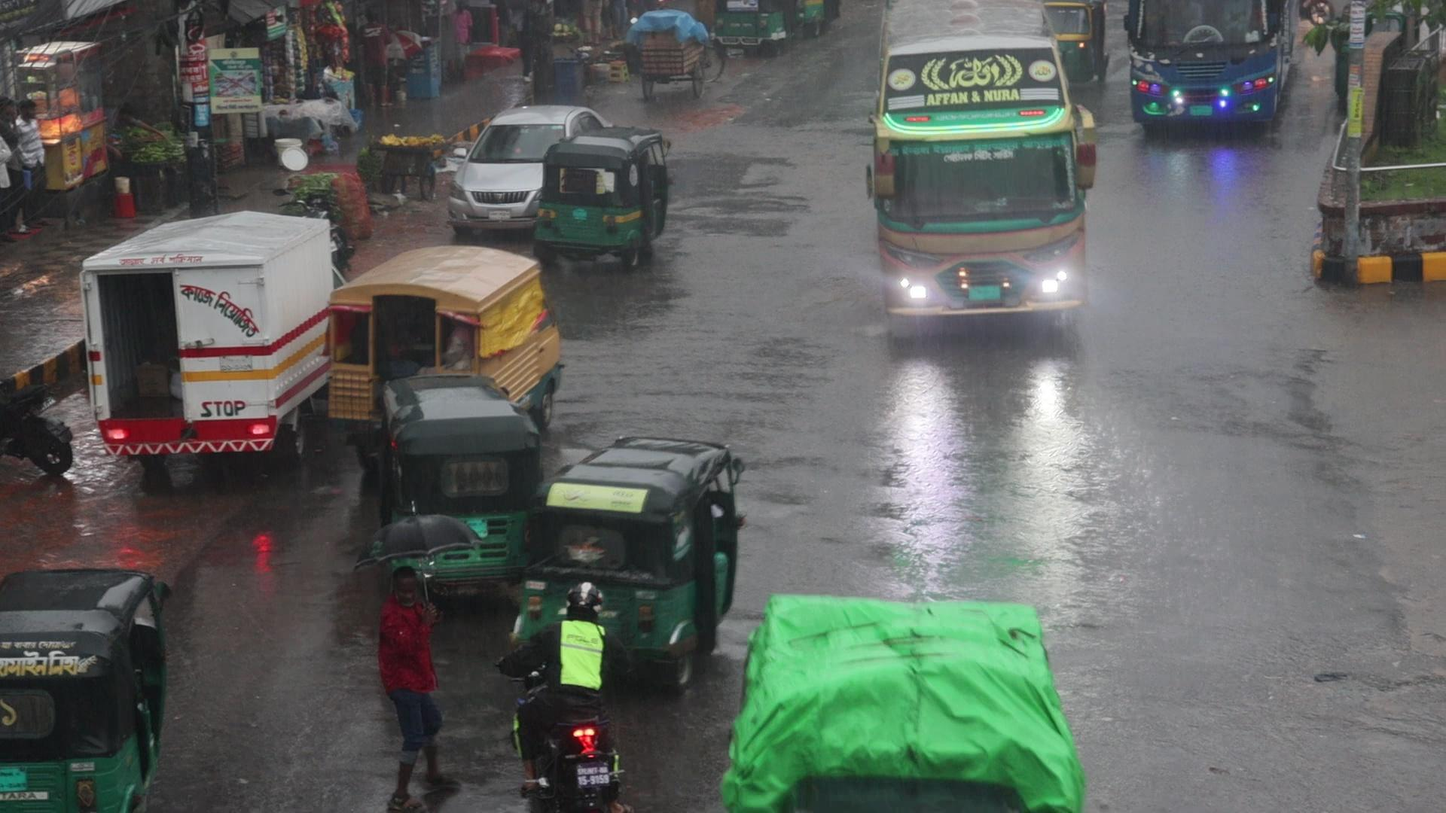Bike: (498, 579, 635, 813)
Bus: (865, 0, 1103, 336)
Truck: (325, 243, 565, 392)
